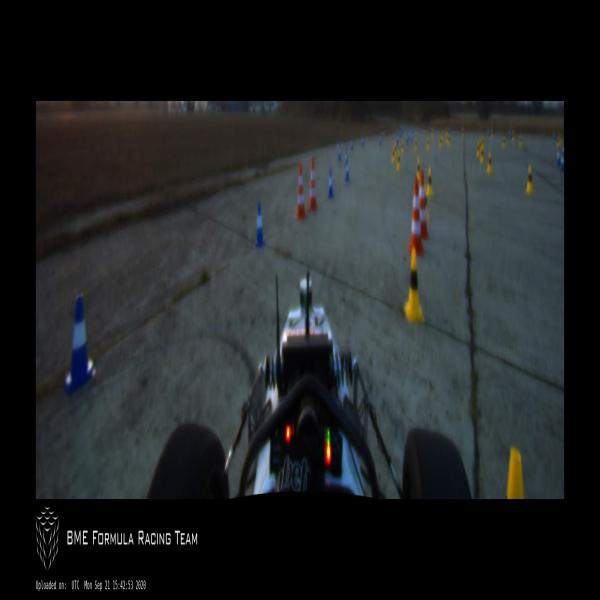blue_cone: (65, 296, 96, 395), (255, 203, 265, 247), (328, 170, 334, 198), (345, 161, 350, 181), (560, 152, 564, 172), (338, 142, 341, 162), (344, 150, 348, 164), (557, 148, 560, 166), (379, 136, 382, 146), (406, 134, 409, 144), (396, 136, 399, 145), (351, 139, 353, 150), (362, 136, 364, 146), (411, 132, 413, 142)
large_orange_cone: (409, 177, 423, 254), (419, 172, 429, 240), (295, 164, 307, 220), (308, 160, 318, 211)
yellow_cone: (404, 248, 425, 324), (526, 164, 534, 194), (424, 184, 430, 223), (427, 167, 433, 196), (487, 151, 492, 174), (480, 144, 485, 164), (397, 150, 401, 170), (392, 146, 396, 164), (476, 141, 480, 159), (417, 159, 420, 180), (414, 138, 418, 151), (502, 135, 506, 148), (394, 142, 397, 159), (519, 135, 523, 147), (401, 140, 404, 154), (427, 137, 430, 151), (445, 132, 448, 144), (439, 137, 442, 148), (479, 139, 482, 149), (482, 136, 484, 151), (432, 128, 434, 140), (442, 130, 444, 142), (448, 135, 450, 147), (512, 130, 514, 140), (462, 128, 464, 136)
